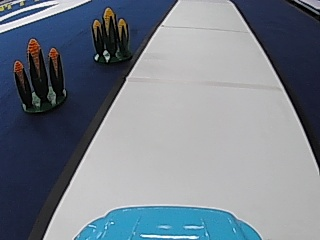corn: (13, 37, 69, 114), (89, 4, 132, 63)
